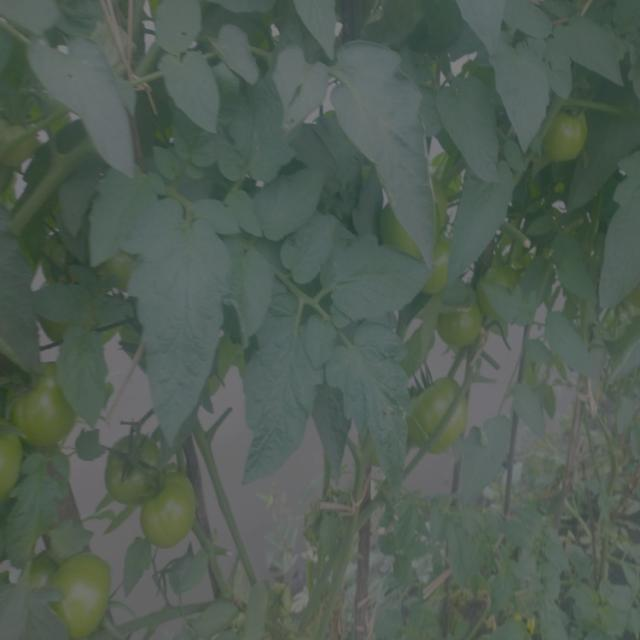tomato: (402, 373, 470, 456), (59, 554, 124, 638), (12, 367, 81, 442), (146, 473, 204, 557), (102, 430, 159, 500), (541, 104, 598, 171), (376, 194, 430, 259), (435, 296, 486, 352), (4, 423, 38, 506), (481, 257, 525, 318), (101, 243, 145, 288), (24, 545, 60, 599), (424, 244, 454, 291)
